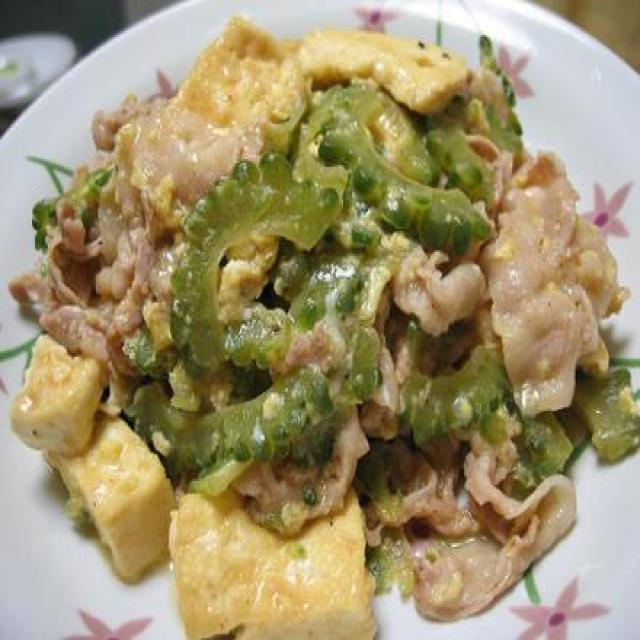熟制海鲜: (0, 0, 636, 634)
